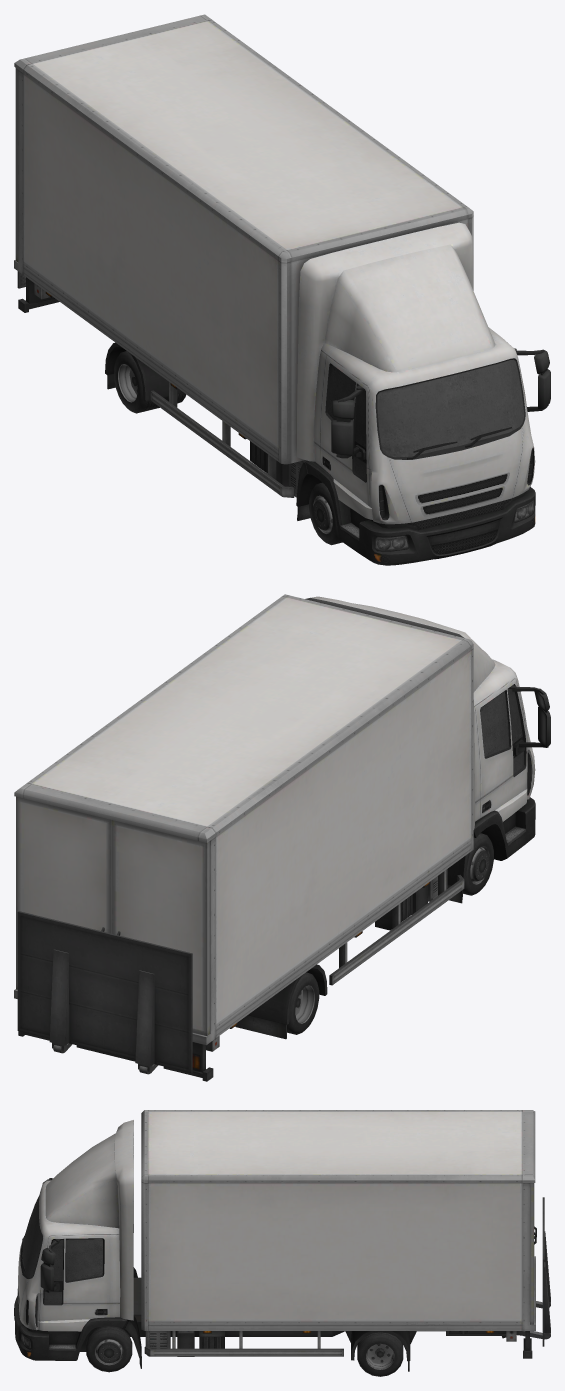
The model's file is iveco_eurocargo.glb.
The picture shows the model from 3 angles, top to bottom: view 1: azimuth 30°, elevation 25°; view 2: azimuth 150°, elevation 25°; view 3: azimuth 270°, elevation 25°; orthographic projection. The views are drawn at different scales.
Parts seen in each view (by area): view 1: MediumTruck01_1, WheelBR, WheelFR, DoorR; view 2: MediumTruck01_1, Elevator02, DoorR, DoorL, WheelBR, WheelFR; view 3: MediumTruck01_1, WheelFL, WheelBL, Elevator02, DoorL.
Boxes of the visible parts, x1,y1,x2,y2 form: MediumTruck01_1: (14, 14, 550, 565); WheelBR: (114, 351, 186, 413); WheelFR: (309, 482, 342, 545); DoorR: (15, 68, 18, 262); MediumTruck01_1: (14, 594, 550, 1081); Elevator02: (17, 911, 192, 1072); DoorR: (111, 820, 209, 1035); DoorL: (16, 796, 111, 989); WheelBR: (287, 972, 319, 1034); WheelFR: (463, 833, 493, 895); MediumTruck01_1: (14, 1110, 535, 1371); WheelFL: (86, 1326, 132, 1372); WheelBL: (357, 1332, 403, 1376); Elevator02: (542, 1197, 550, 1346); DoorL: (530, 1183, 536, 1324).
Size of the model in its own units: 2.93 by 3.55 by 8.5.
Materials: 2 (2 with a texture image).
